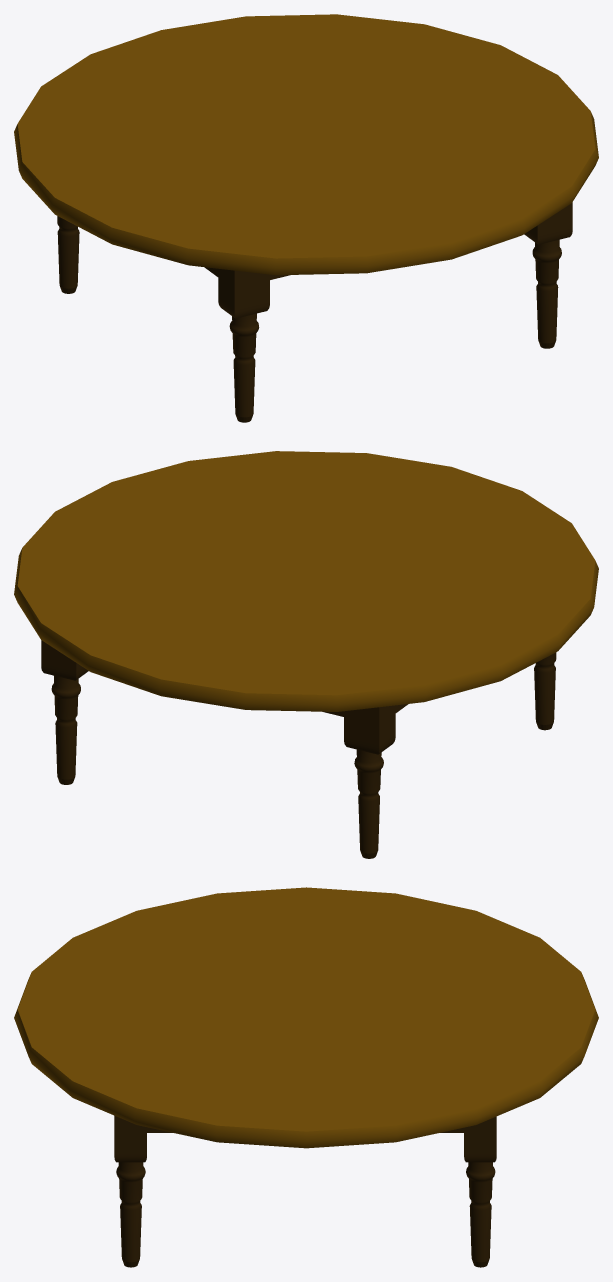
Rendered from Table.fbx.
3 views of the same model, one above another, from view 1: azimuth 30°, elevation 25°; view 2: azimuth 150°, elevation 25°; view 3: azimuth 270°, elevation 25° (orthographic).
Parts seen in each view (by area): view 1: pSphere9; view 2: pSphere9; view 3: pSphere9.
Boxes of the visible parts, x1=… form: pSphere9: x1=14, y1=14, x2=598, y2=422; pSphere9: x1=14, y1=451, x2=598, y2=858; pSphere9: x1=14, y1=887, x2=598, y2=1267.
Size of the model in its own units: 9.93 by 3.39 by 9.93.
